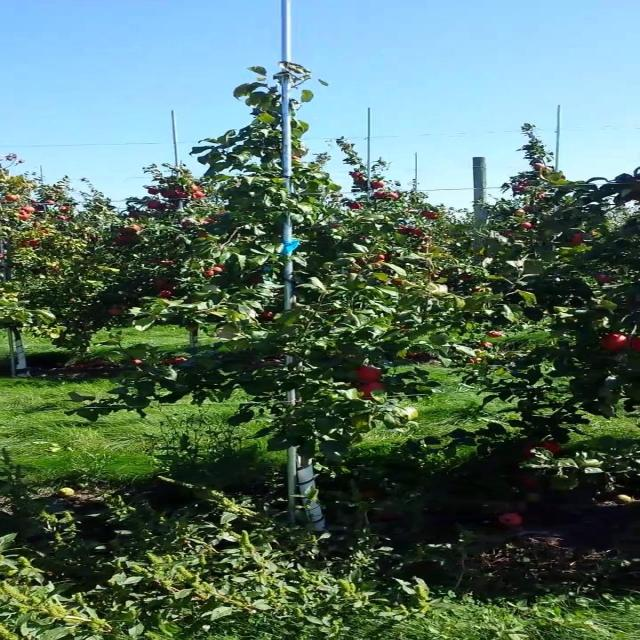apple: (524, 440, 562, 457), (600, 332, 629, 351), (356, 381, 384, 398), (356, 365, 382, 382), (538, 440, 562, 455), (520, 475, 542, 489), (522, 442, 538, 459), (569, 232, 584, 246), (593, 274, 613, 283), (629, 336, 640, 352)
